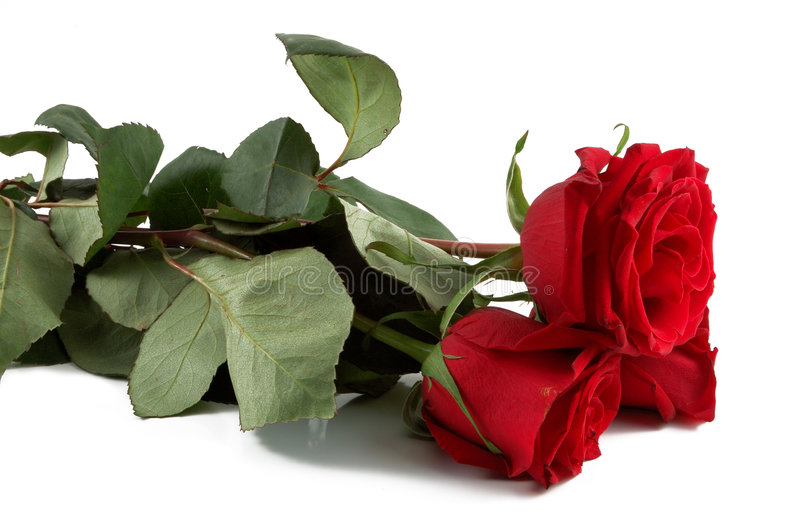RedRose: (508, 131, 735, 362), (418, 290, 627, 491)
